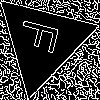F: (17, 17, 69, 58)
